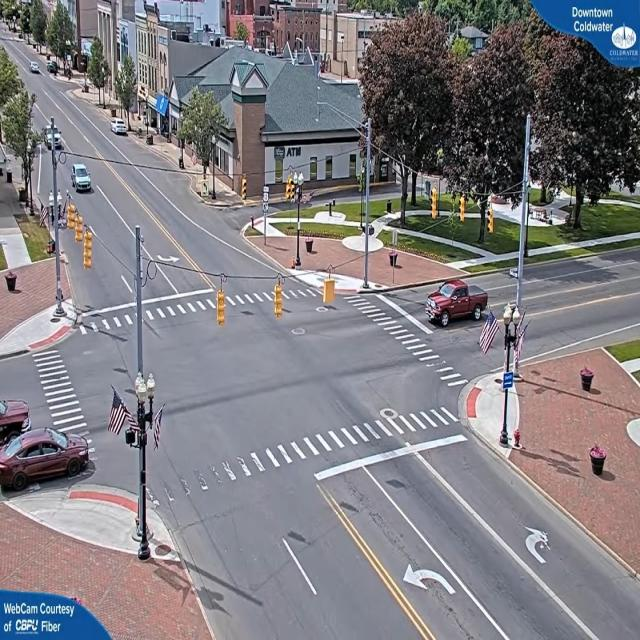car: (0, 428, 89, 491), (426, 278, 486, 326), (73, 164, 94, 192), (112, 120, 129, 136), (30, 63, 39, 74)
